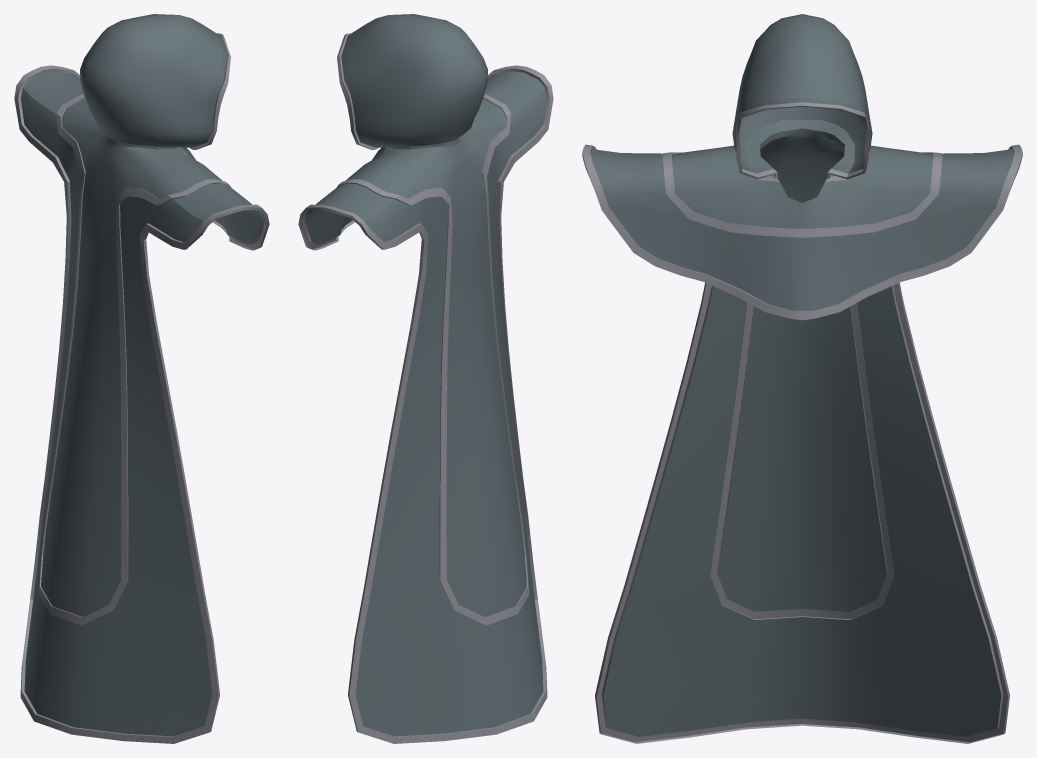
Rendered from Cape_Ethérée.glb.
3 views of the same model, side by side, from view 1: azimuth 30°, elevation 25°; view 2: azimuth 150°, elevation 25°; view 3: azimuth 270°, elevation 25° (orthographic). The views are drawn at different scales.
Parts seen in each view (by area): view 1: RobeLP; view 2: RobeLP; view 3: RobeLP.
Boxes of the visible parts, left/top/right/bottom form: RobeLP: left=14, top=14, right=269, bottom=743; RobeLP: left=298, top=14, right=553, bottom=743; RobeLP: left=582, top=14, right=1022, bottom=743.
Bounding box in the file's own units: 1.99 × 6.77 × 3.55.
Materials: 1 (1 with a texture image).
